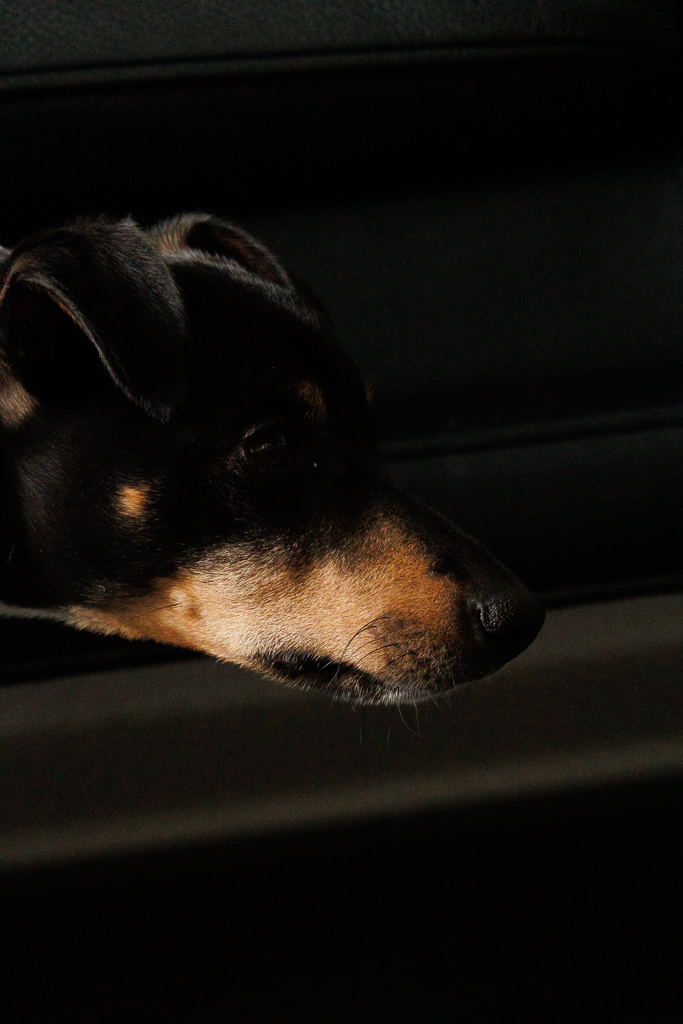Dog: (0, 187, 558, 770)
